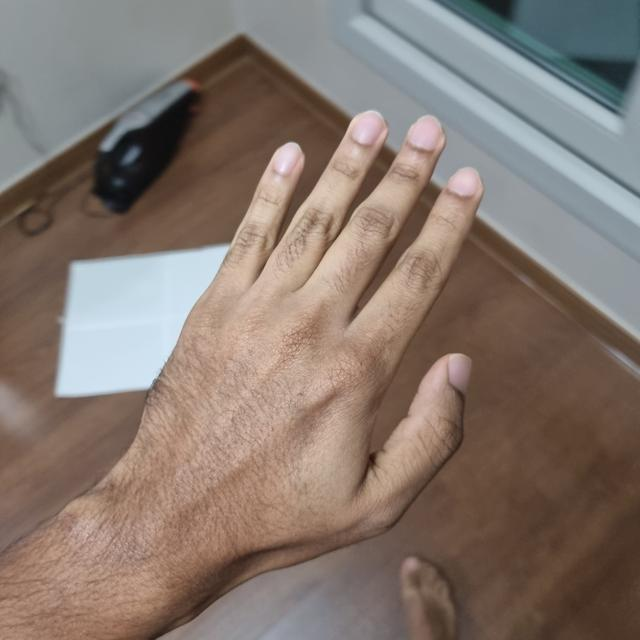Paper: (134, 121, 469, 562)
